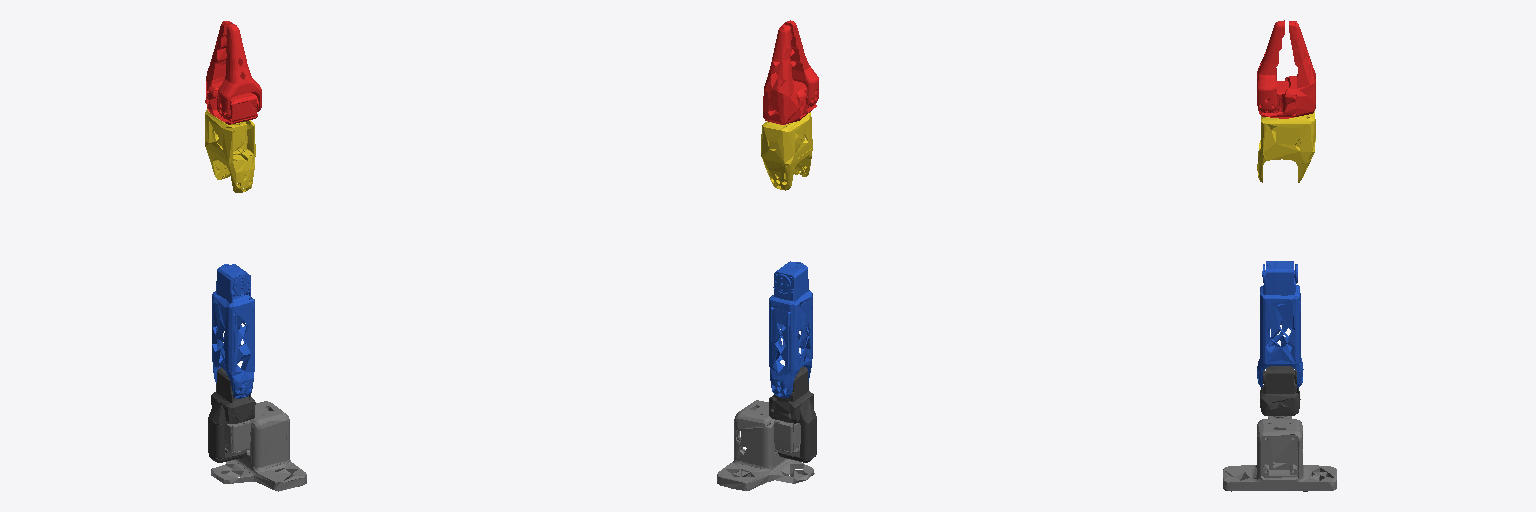
The robot description file, URDF, robot "genkiarm":
<?xml version="1.0" encoding="utf-8"?>
<!-- ============================================================================ -->
<!-- Genkiarm ROS2 URDF — 6-DOF 桌面机械臂                                         -->
<!-- 适配 RViz2 可视化 + 现有 TCP 桥接链路                                          -->
<!--                                                                               -->
<!-- 关节名匹配 /joint_states 话题:                                                 -->
<!--   joint_1 (腰部旋转)     ID 1 / 11                                              -->
<!--   joint_2 (肩部俯仰)     ID 2 / 12                                              -->
<!--   joint_3 (肘部俯仰)     ID 3 / 13                                              -->
<!--   joint_4 (腕部俯仰)     ID 4 / 14                                              -->
<!--   joint_5 (腕部横滚)     ID 5 / 15                                              -->
<!--   joint_6 (夹爪)         ID 6 / 16                                              -->
<!-- ============================================================================ -->
<robot name="genkiarm">

  <!-- ================================================================ -->
  <!-- 材质 (PETG, 密度 1270 kg/m³)                                     -->
  <!-- ================================================================ -->
  <material name="petg_grey">
    <color rgba="0.5 0.5 0.5 1.0"/>
  </material>
  <material name="petg_dark">
    <color rgba="0.3 0.3 0.3 1.0"/>
  </material>
  <material name="petg_blue">
    <color rgba="0.2 0.4 0.8 1.0"/>
  </material>
  <material name="petg_orange">
    <color rgba="0.9 0.5 0.2 1.0"/>
  </material>
  <material name="petg_yellow">
    <color rgba="0.9 0.8 0.2 1.0"/>
  </material>
  <material name="petg_red">
    <color rgba="0.9 0.2 0.2 1.0"/>
  </material>

  <!-- ================================================================ -->
  <!-- LINK_BASE — 固定底座                                              -->
  <!-- ================================================================ -->
  <link name="base_link">
    <visual>
      <geometry>
        <mesh filename="package://r01_test_package/meshes/AAA.stl"/>
      </geometry>
      <material name="petg_grey"/>
    </visual>
    <collision>
      <geometry>
        <box size="0.05 0.05 0.015"/>
      </geometry>
      <origin xyz="0 0 0.006"/>
    </collision>
    <inertial>
      <mass value="0.05"/>
      <origin xyz="0 0 0.006"/>
      <inertia ixx="1.5e-5" ixy="0" ixz="0"
               iyy="1.5e-5" iyz="0"
               izz="2.1e-5"/>
    </inertial>
  </link>

  <!-- ================================================================ -->
  <!-- LINK_YAW — 腰部旋转                                               -->
  <!-- ================================================================ -->
  <link name="link_yaw">
    <visual>
      <geometry>
        <mesh filename="package://r01_test_package/meshes/BBB.stl"/>
      </geometry>
      <material name="petg_dark"/>
    </visual>
    <collision>
      <geometry>
        <box size="0.02 0.02 0.02"/>
      </geometry>
      <origin xyz="0.02 0 0"/>
    </collision>
    <inertial>
      <mass value="0.16"/>
      <origin xyz="0.04 0 0"/>
      <inertia ixx="8.5e-5" ixy="0" ixz="0"
               iyy="8.5e-5" iyz="0"
               izz="5.3e-5"/>
    </inertial>
  </link>

  <!-- ================================================================ -->
  <!-- LINK_SHOULDER — 肩部                                              -->
  <!-- ================================================================ -->
  <link name="link_shoulder">
    <visual>
      <geometry>
        <mesh filename="package://r01_test_package/meshes/CCC.stl"/>
      </geometry>
      <material name="petg_blue"/>
    </visual>
    <collision>
      <geometry>
        <cylinder radius="0.025" length="0.12"/>
      </geometry>
      <origin xyz="0 0 0.06"/>
    </collision>
    <inertial>
      <mass value="0.38"/>
      <origin xyz="0 0 0.06"/>
      <inertia ixx="5.5e-4" ixy="0" ixz="0"
               iyy="5.5e-4" iyz="0"
               izz="1.2e-4"/>
    </inertial>
  </link>

  <!-- ================================================================ -->
  <!-- LINK_ELBOW — 肘部                                                 -->
  <!-- ================================================================ -->
  <link name="link_elbow">
    <visual>
      <geometry>
        <mesh filename="package://r01_test_package/meshes/CCC2.stl"/>
      </geometry>
      <material name="petg_orange"/>
    </visual>
    <collision>
      <geometry>
        <cylinder radius="0.025" length="0.12"/>
      </geometry>
      <origin xyz="0 0 0.06"/>
    </collision>
    <inertial>
      <mass value="0.24"/>
      <origin xyz="0 0 0.06"/>
      <inertia ixx="3.5e-4" ixy="0" ixz="0"
               iyy="3.5e-4" iyz="0"
               izz="7.5e-5"/>
    </inertial>
  </link>

  <!-- ================================================================ -->
  <!-- LINK_WRIST_PITCH — 腕部俯仰                                       -->
  <!-- ================================================================ -->
  <link name="link_wrist_pitch">
    <visual>
      <geometry>
        <mesh filename="package://r01_test_package/meshes/DDD.stl"/>
      </geometry>
      <material name="petg_yellow"/>
    </visual>
    <collision>
      <geometry>
        <cylinder radius="0.022" length="0.06"/>
      </geometry>
      <origin xyz="0 0 0.03"/>
    </collision>
    <inertial>
      <mass value="0.07"/>
      <origin xyz="0 0 0.03"/>
      <inertia ixx="2.5e-5" ixy="0" ixz="0"
               iyy="2.5e-5" iyz="0"
               izz="1.7e-5"/>
    </inertial>
  </link>

  <!-- ================================================================ -->
  <!-- LINK_WRIST_ROLL — 腕部横滚                                        -->
  <!-- ================================================================ -->
  <link name="link_wrist_roll">
    <visual>
      <geometry>
        <mesh filename="package://r01_test_package/meshes/EEE.stl"/>
      </geometry>
      <material name="petg_red"/>
    </visual>
    <collision>
      <geometry>
        <box size="0.01 0.01 0.04"/>
      </geometry>
      <origin xyz="0 0.02 0.065"/>
    </collision>
    <inertial>
      <mass value="0.02"/>
      <origin xyz="0 0.01 0.065"/>
      <inertia ixx="4e-6" ixy="0" ixz="0"
               iyy="4e-6" iyz="0"
               izz="1.7e-6"/>
    </inertial>
  </link>

  <!-- ================================================================ -->
  <!-- LINK_GRIPPER — 夹爪                                               -->
  <!-- ================================================================ -->
  <link name="link_gripper">
    <visual>
      <geometry>
        <mesh filename="package://r01_test_package/meshes/FFF.stl"/>
      </geometry>
      <material name="petg_red"/>
    </visual>
    <collision>
      <geometry>
        <box size="0.01 0.01 0.04"/>
      </geometry>
      <origin xyz="0 0.01 0.045"/>
    </collision>
    <inertial>
      <mass value="0.09"/>
      <origin xyz="0 0.005 0.045"/>
      <inertia ixx="1.5e-5" ixy="0" ixz="0"
               iyy="1.5e-5" iyz="0"
               izz="7.5e-6"/>
    </inertial>
  </link>

  <!-- ================================================================ -->
  <!-- 关节定义                                                          -->
  <!-- ================================================================ -->

  <!-- joint_1: base_link → link_yaw (腰部旋转, 绕 X 轴) -->
  <joint name="joint_1" type="revolute">
    <parent link="base_link"/>
    <child link="link_yaw"/>
    <origin xyz="-0.013 0 0.0265" rpy="0 -1.5708 0"/>
    <axis xyz="1 0 0"/>
    <limit lower="-1.5708" upper="1.5708" effort="35" velocity="3.14"/>
    <dynamics damping="2.0" friction="0.5"/>
  </joint>

  <!-- joint_2: link_yaw → link_shoulder (肩部俯仰, 绕 Y 轴) -->
  <joint name="joint_2" type="revolute">
    <parent link="link_yaw"/>
    <child link="link_shoulder"/>
    <origin xyz="0.081 0 0" rpy="0 1.5708 0"/>
    <axis xyz="0 1 0"/>
    <limit lower="-1.5708" upper="1.5708" effort="35" velocity="3.14"/>
    <dynamics damping="2.0" friction="0.5"/>
  </joint>

  <!-- joint_3: link_shoulder → link_elbow (肘部俯仰, 绕 Y 轴) -->
  <joint name="joint_3" type="revolute">
    <parent link="link_shoulder"/>
    <child link="link_elbow"/>
    <origin xyz="0 0 0.118" rpy="0 0 0"/>
    <axis xyz="0 1 0"/>
    <limit lower="-1.5708" upper="1.5708" effort="35" velocity="3.14"/>
    <dynamics damping="2.0" friction="0.5"/>
  </joint>

  <!-- joint_4: link_elbow → link_wrist_pitch (腕部俯仰, 绕 Y 轴) -->
  <joint name="joint_4" type="revolute">
    <parent link="link_elbow"/>
    <child link="link_wrist_pitch"/>
    <origin xyz="0 0 0.118" rpy="0 0 0"/>
    <axis xyz="0 1 0"/>
    <limit lower="-1.5708" upper="1.5708" effort="35" velocity="3.14"/>
    <dynamics damping="2.0" friction="0.5"/>
  </joint>

  <!-- joint_5: link_wrist_pitch → link_wrist_roll (腕部横滚, 绕 Z 轴) -->
  <joint name="joint_5" type="revolute">
    <parent link="link_wrist_pitch"/>
    <child link="link_wrist_roll"/>
    <origin xyz="0 0 0.0635" rpy="0 0 0"/>
    <axis xyz="0 0 1"/>
    <limit lower="-1.5708" upper="1.5708" effort="35" velocity="3.14"/>
    <dynamics damping="2.0" friction="0.5"/>
  </joint>

  <!-- joint_6: link_wrist_roll → link_gripper (夹爪, 绕 X 轴) -->
  <joint name="joint_6" type="revolute">
    <parent link="link_wrist_roll"/>
    <child link="link_gripper"/>
    <origin xyz="0 -0.0132 0.021" rpy="0 0 0"/>
    <axis xyz="1 0 0"/>
    <limit lower="0" upper="1.5708" effort="35" velocity="3.14"/>
    <dynamics damping="2.0" friction="0.5"/>
  </joint>

  <!-- ================================================================ -->
  <!-- 末端执行器 site                                                   -->
  <!-- ================================================================ -->
  <link name="gripper_tip"/>
  <joint name="gripper_tip_joint" type="fixed">
    <parent link="link_gripper"/>
    <child link="gripper_tip"/>
    <origin xyz="0 0 0.06" rpy="0 0 0"/>
  </joint>

  </robot>

--- Render facts (derived) ---
3 views of the same robot in one strip: view 1: azimuth 30°, elevation 25°; view 2: azimuth 150°, elevation 25°; view 3: azimuth 270°, elevation 25° (orthographic).
Model genkiarm with 8 links and 7 joints (6 revolute, 1 fixed), rooted at base_link, posed all joints at 0.
Visible links, largest first — view 1: base_link, link_shoulder, link_wrist_pitch, link_yaw, link_wrist_roll, link_gripper; view 2: base_link, link_shoulder, link_wrist_pitch, link_wrist_roll, link_yaw, link_gripper; view 3: base_link, link_shoulder, link_wrist_pitch, link_wrist_roll, link_yaw, link_gripper.
Link boxes in pixels (left/top/right/bottom): base_link: left=211, top=401, right=306, bottom=491; link_shoulder: left=212, top=264, right=254, bottom=398; link_wrist_pitch: left=205, top=109, right=255, bottom=192; link_yaw: left=208, top=367, right=255, bottom=462; link_wrist_roll: left=205, top=21, right=258, bottom=124; link_gripper: left=218, top=24, right=261, bottom=119; base_link: left=717, top=400, right=814, bottom=490; link_shoulder: left=769, top=261, right=812, bottom=397; link_wrist_pitch: left=761, top=112, right=812, bottom=190; link_wrist_roll: left=763, top=24, right=816, bottom=124; link_yaw: left=769, top=367, right=816, bottom=462; link_gripper: left=784, top=20, right=818, bottom=105; base_link: left=1223, top=416, right=1336, bottom=491; link_shoulder: left=1257, top=261, right=1303, bottom=387; link_wrist_pitch: left=1257, top=111, right=1315, bottom=182; link_wrist_roll: left=1258, top=21, right=1315, bottom=118; link_yaw: left=1260, top=366, right=1300, bottom=415; link_gripper: left=1257, top=20, right=1284, bottom=112.
Bounding box of the posed robot: 0.0831 × 0.12 × 0.5155 m (x, y, z).
6 mesh visuals loaded from 7 distinct referenced files (6 binary STL); not drawn: 1 (reference not matched to a file when rendering).
